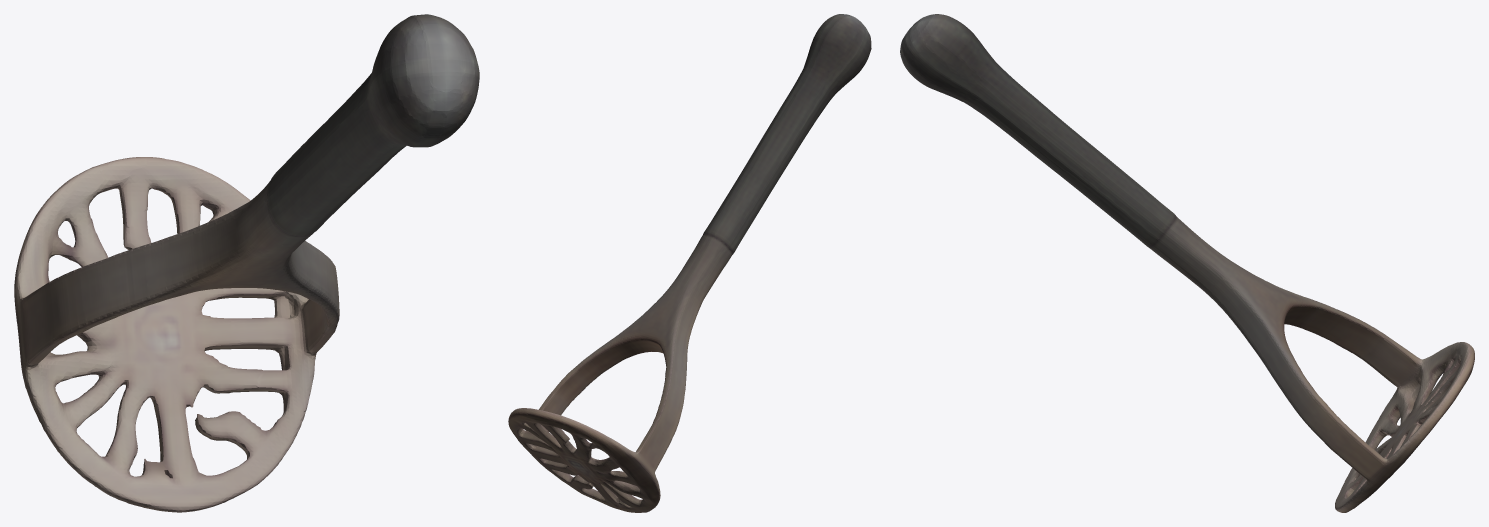
Rendered from frame_0073_source_000073_object.glb.
The picture shows the model from 3 angles, left to right: view 1: azimuth 30°, elevation 25°; view 2: azimuth 150°, elevation 25°; view 3: azimuth 270°, elevation 25°; orthographic projection. The views are drawn at different scales.
Parts seen in each view (by area): view 1: world; view 2: world; view 3: world.
Boxes of the visible parts, bbox=[...] form: world: bbox=[14, 14, 479, 512]; world: bbox=[508, 14, 871, 512]; world: bbox=[900, 14, 1474, 512].
Bounding box in the file's own units: 0.0821 × 0.1951 × 0.2236.
